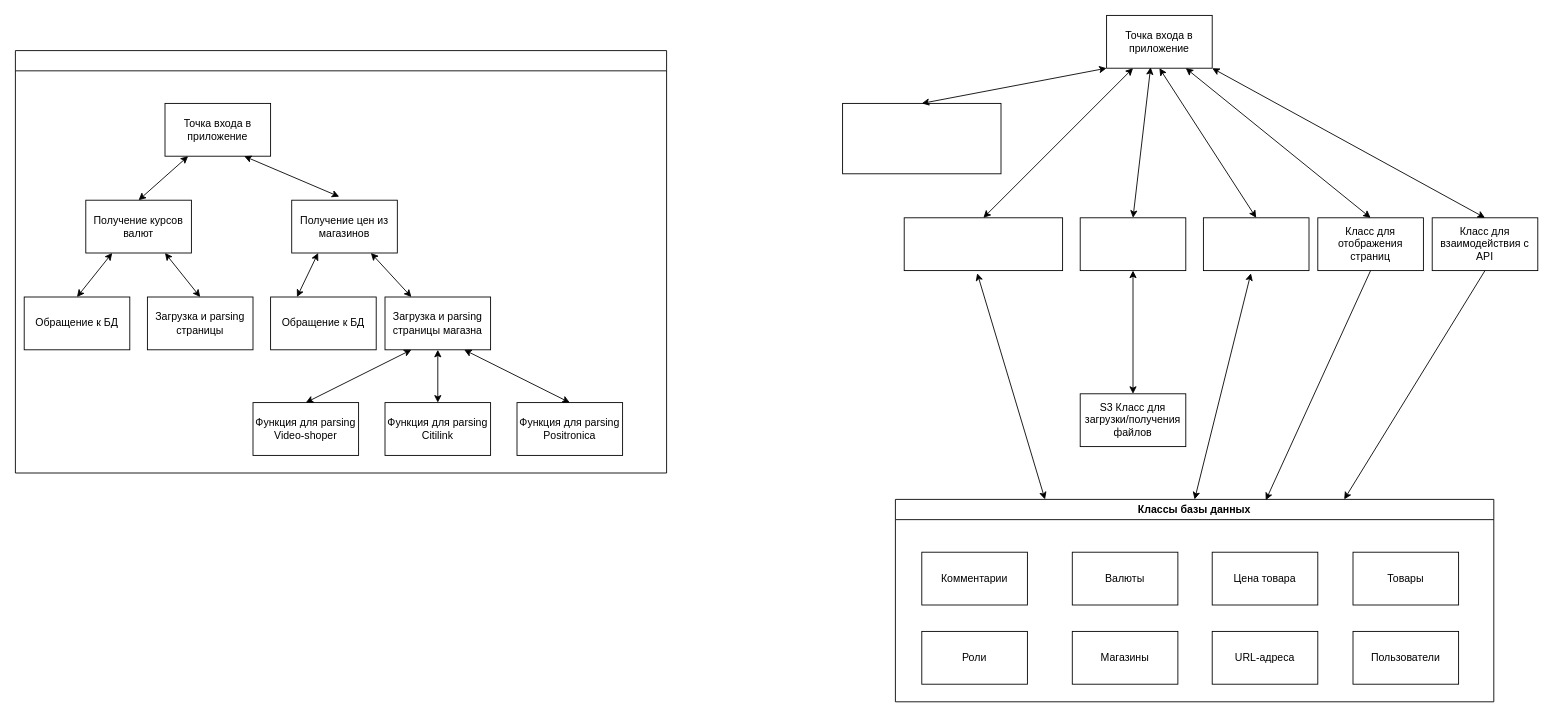
Some shapes in this 1553 by 717 pixel diagram are drawn without their labels. The centre of each missing label's shape, as x and y in pixels:
"API для получения цен и курсов валют" belongs at (x=341, y=261).
"Класс для регистрации и авторизации пользователей" belongs at (x=1256, y=244).
"Класс отвечающий за взаимодействие с файлами" belongs at (x=1132, y=244).
"Класс отвечающий за изменение данных в БД, при получении запроса от frontend" belongs at (x=983, y=244).
"Создание отдельных потоков, обновляющих цену товара и курсы валют" belongs at (x=921, y=138).
